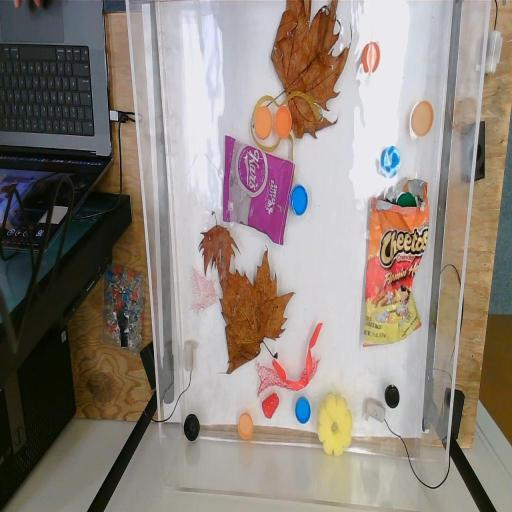Bottle Cap: (411, 100, 434, 136), (290, 184, 310, 217), (362, 40, 381, 74), (382, 146, 400, 178), (255, 106, 272, 138), (276, 106, 292, 138), (183, 414, 201, 442), (294, 396, 312, 424), (384, 382, 400, 410), (238, 412, 253, 440), (397, 192, 417, 208)
Cone Cap: (263, 393, 279, 419)
Leaf: (264, 0, 352, 137), (216, 252, 294, 372), (199, 210, 240, 276)
Netting: (254, 357, 324, 396), (190, 266, 218, 314)
Plastic Bag: (362, 179, 430, 347), (224, 134, 294, 250)
Plastic Strand: (251, 90, 320, 188), (272, 320, 324, 390)
Sponge: (318, 394, 354, 458)
